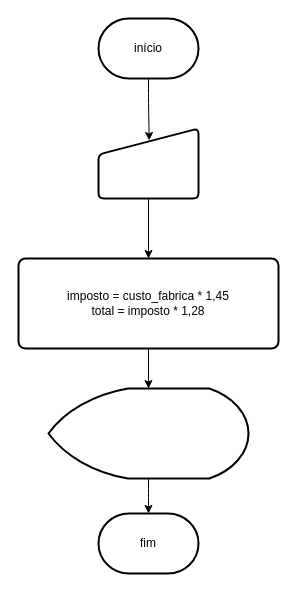
Image size: 296x591. Some labels were removed from this diagram. Each missing label, with the centre of its shape:
"O valor para o consumidor é: ",total: pixel 148 433
custo_fabrica: pixel 148 163
